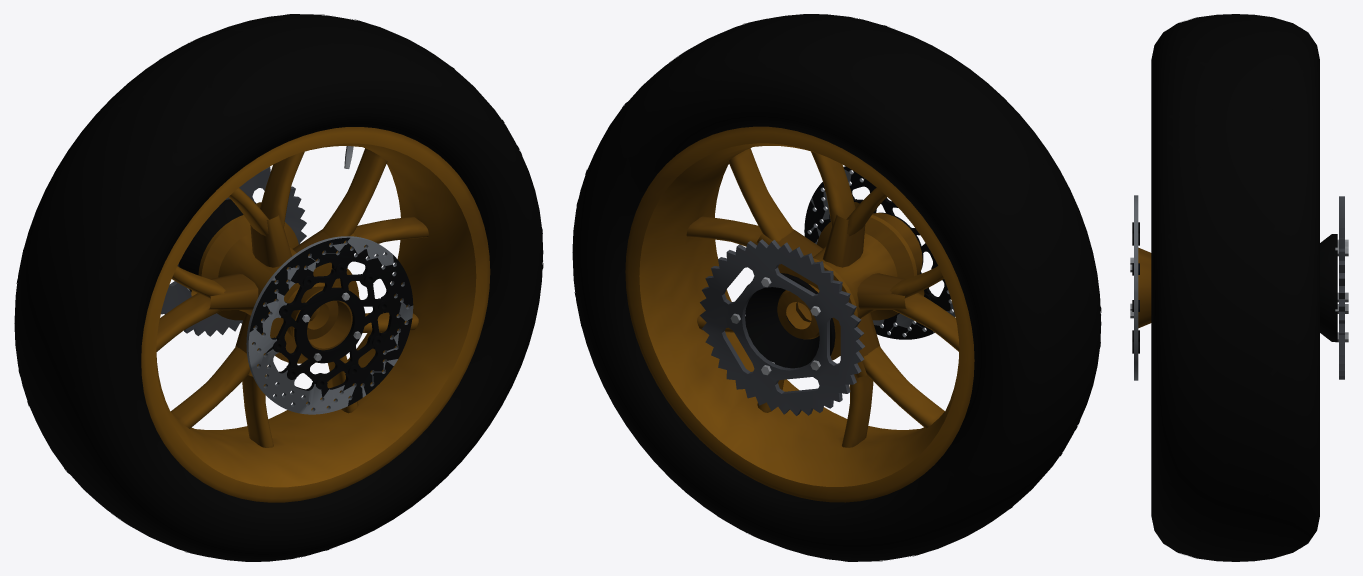
Rendered from bike_stradav4_wheelR.glb.
The picture shows the model from 3 angles, left to right: view 1: azimuth 30°, elevation 25°; view 2: azimuth 150°, elevation 25°; view 3: azimuth 270°, elevation 25°; orthographic projection. The views are drawn at different scales.
Visible parts, largest first — view 1: sbs_wheelR_tyre, sbs_wheelR_rim, sbs_wheelR_disc0.118_in, sbs_wheelR_disc0.118, sbs_wheelR_hub, sbs_wheelR_grooves, sbs_wheelR_sprocket, sbs_wheelR_sp0_1, sbs_wheelR_sp3_-1, sbs_wheelR_sp1_-1, sbs_wheelR_sp2_1, sbs_wheelR_scone (+7 smaller); view 2: sbs_wheelR_tyre, sbs_wheelR_rim, sbs_wheelR_sprocket, sbs_wheelR_hub, sbs_wheelR_scone, sbs_wheelR_grooves, sbs_wheelR_disc0.118_in, sbs_wheelR_sp0_1, sbs_wheelR_sp3_-1, sbs_wheelR_sp1_-1, sbs_wheelR_sp2_1, sbs_wheelR_sp3_1 (+9 smaller); view 3: sbs_wheelR_tyre, sbs_wheelR_grooves, sbs_wheelR_scone, sbs_wheelR_sprocket, sbs_wheelR_dcone0.118, sbs_wheelR_disc0.118, sbs_wheelR_spb, sbs_wheelR_disc0.118_in.
Part boxes in pixels (bbox=[...]): sbs_wheelR_tyre: bbox=[14, 14, 543, 561]; sbs_wheelR_rim: bbox=[141, 127, 490, 502]; sbs_wheelR_disc0.118_in: bbox=[249, 237, 413, 405]; sbs_wheelR_disc0.118: bbox=[246, 236, 413, 414]; sbs_wheelR_hub: bbox=[198, 215, 359, 363]; sbs_wheelR_grooves: bbox=[16, 14, 543, 559]; sbs_wheelR_sprocket: bbox=[161, 166, 306, 336]; sbs_wheelR_sp0_1: bbox=[321, 148, 387, 237]; sbs_wheelR_sp3_-1: bbox=[171, 346, 250, 428]; sbs_wheelR_sp1_-1: bbox=[260, 152, 304, 227]; sbs_wheelR_sp2_1: bbox=[156, 293, 222, 351]; sbs_wheelR_scone: bbox=[179, 199, 256, 291]; sbs_wheelR_tyre: bbox=[572, 14, 1101, 561]; sbs_wheelR_rim: bbox=[625, 126, 974, 502]; sbs_wheelR_sprocket: bbox=[700, 239, 864, 415]; sbs_wheelR_hub: bbox=[777, 215, 916, 360]; sbs_wheelR_scone: bbox=[743, 273, 835, 368]; sbs_wheelR_grooves: bbox=[574, 16, 1101, 561]; sbs_wheelR_disc0.118_in: bbox=[804, 166, 950, 339]; sbs_wheelR_sp0_1: bbox=[728, 148, 793, 241]; sbs_wheelR_sp3_-1: bbox=[862, 345, 944, 428]; sbs_wheelR_sp1_-1: bbox=[811, 151, 855, 227]; sbs_wheelR_sp2_1: bbox=[893, 293, 959, 351]; sbs_wheelR_sp3_1: bbox=[842, 374, 873, 447]; sbs_wheelR_tyre: bbox=[1151, 14, 1319, 561]; sbs_wheelR_grooves: bbox=[1167, 16, 1304, 560]; sbs_wheelR_scone: bbox=[1320, 234, 1337, 341]; sbs_wheelR_sprocket: bbox=[1339, 196, 1344, 379]; sbs_wheelR_dcone0.118: bbox=[1138, 247, 1151, 328]; sbs_wheelR_disc0.118: bbox=[1134, 195, 1138, 380]; sbs_wheelR_spb: bbox=[1335, 239, 1348, 342]; sbs_wheelR_disc0.118_in: bbox=[1132, 222, 1139, 353].
Size of the model in its own units: 0.6505 by 0.6505 by 0.259.
